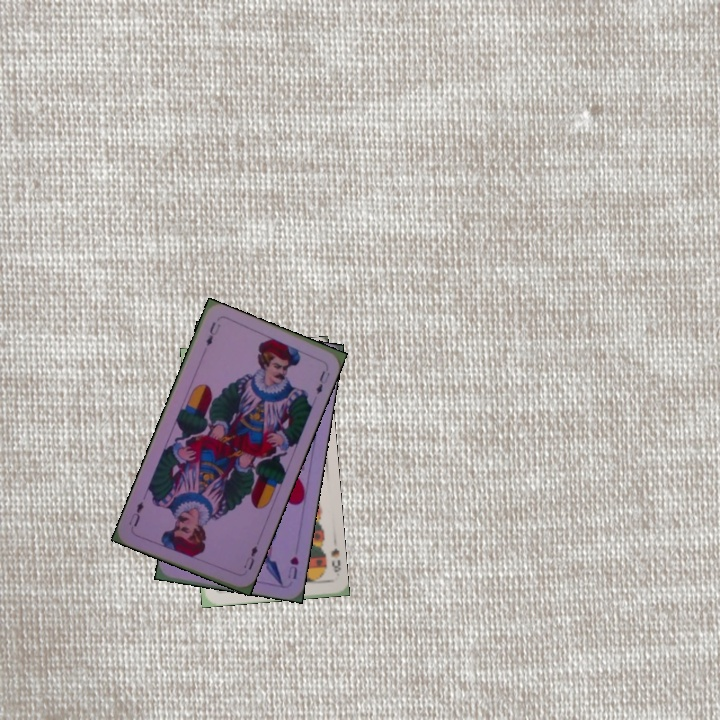EU: (202, 318, 223, 349), (239, 542, 260, 572)
HU: (284, 552, 301, 582)
S8: (327, 544, 343, 575)
